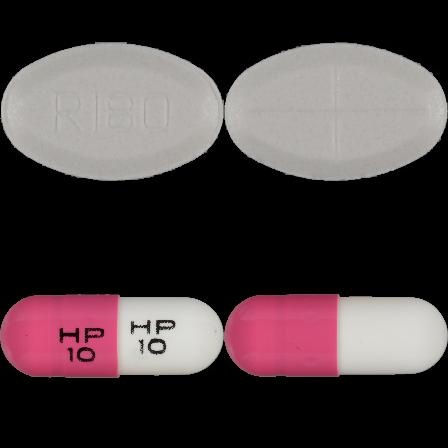68788-9092: (0, 0, 224, 224)
